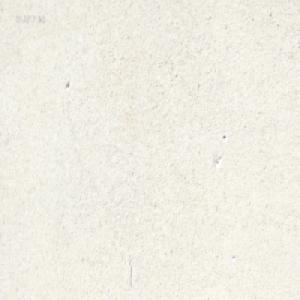Wrench: (116, 0, 123, 4)
